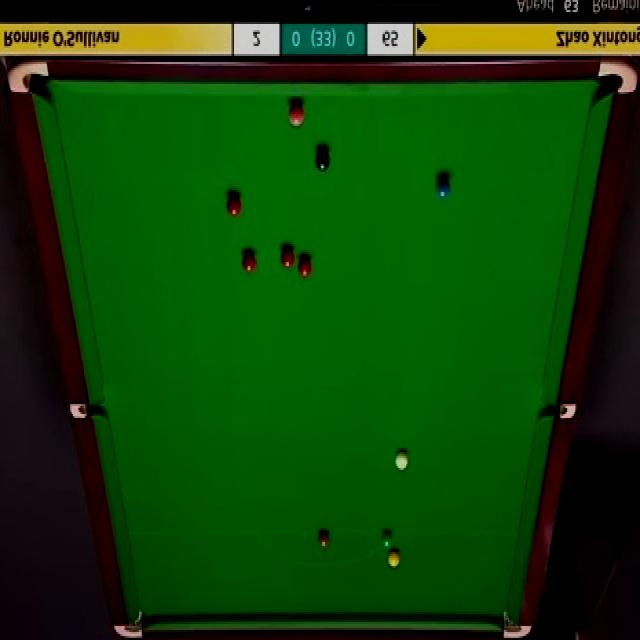pocket: (595, 60, 636, 97), (8, 63, 50, 97), (500, 608, 534, 640), (113, 612, 143, 640), (68, 403, 107, 423), (541, 403, 575, 422)
